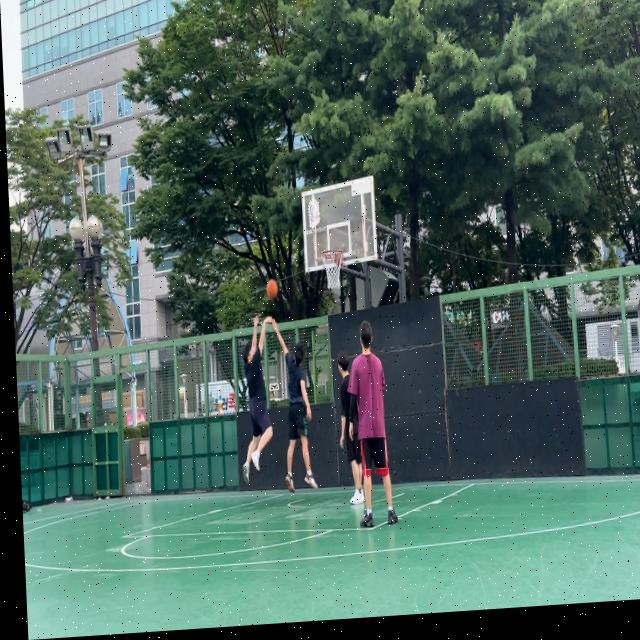basketball: (266, 278, 278, 300)
hoop: (320, 248, 344, 290)
